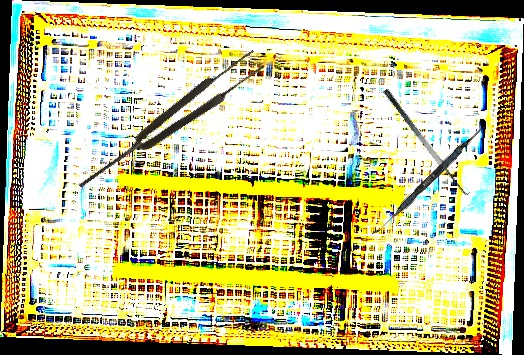Spatula Surgical: (371, 121, 487, 240), (382, 81, 475, 201)
Tissue Forceps: (70, 47, 268, 197)
